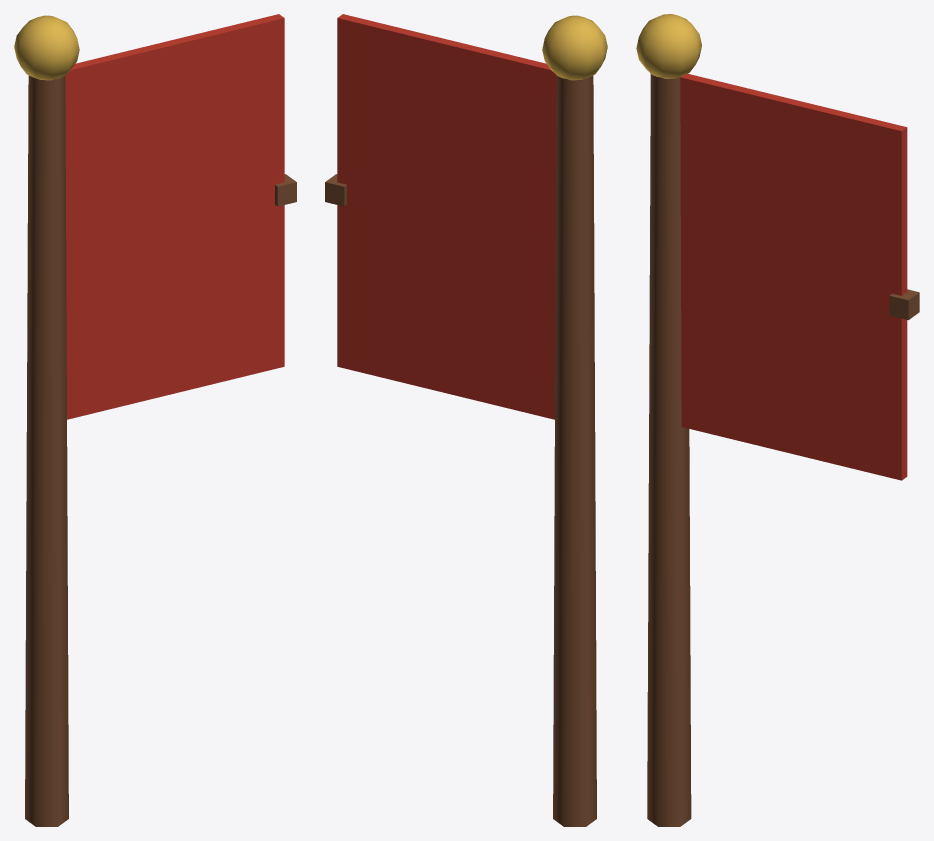
The model's file is banner-red.glb.
The picture shows the model from 3 angles, left to right: view 1: azimuth 30°, elevation 25°; view 2: azimuth 150°, elevation 25°; view 3: azimuth 330°, elevation 25°; orthographic projection.
Bounding box in the file's own units: 0.86 × 2.41 × 0.1712.
